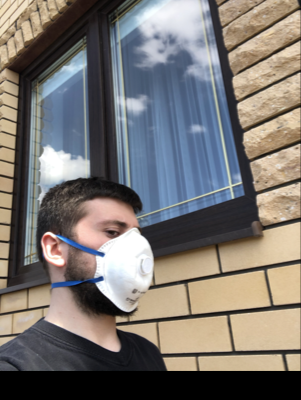with_mask: (85, 214, 155, 316)
